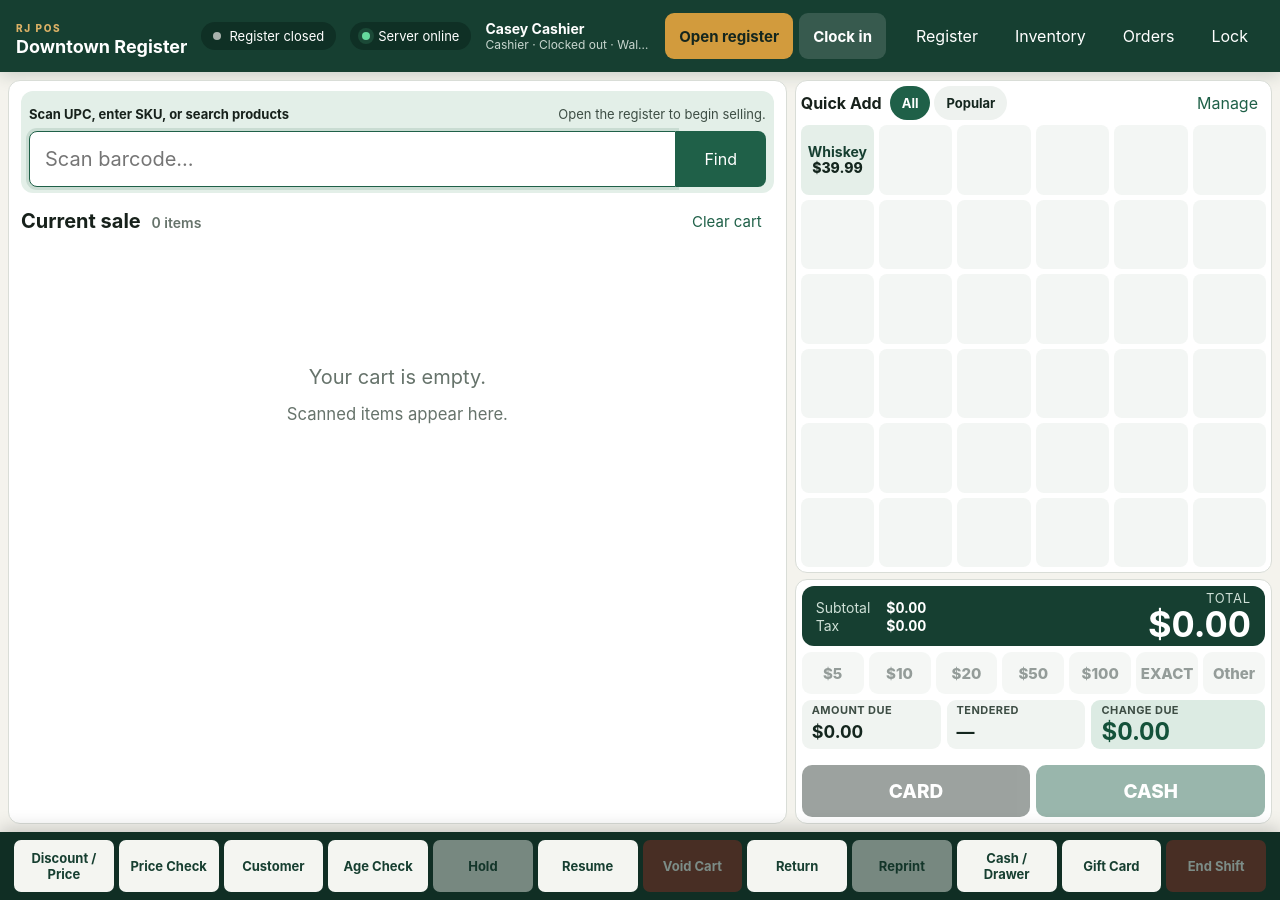
Test: Register runtime workflows › creates a customer from the register and selects it immediately
Click the button "Customer" at (273, 866), box x1=224 y1=840 x2=323 y2=892
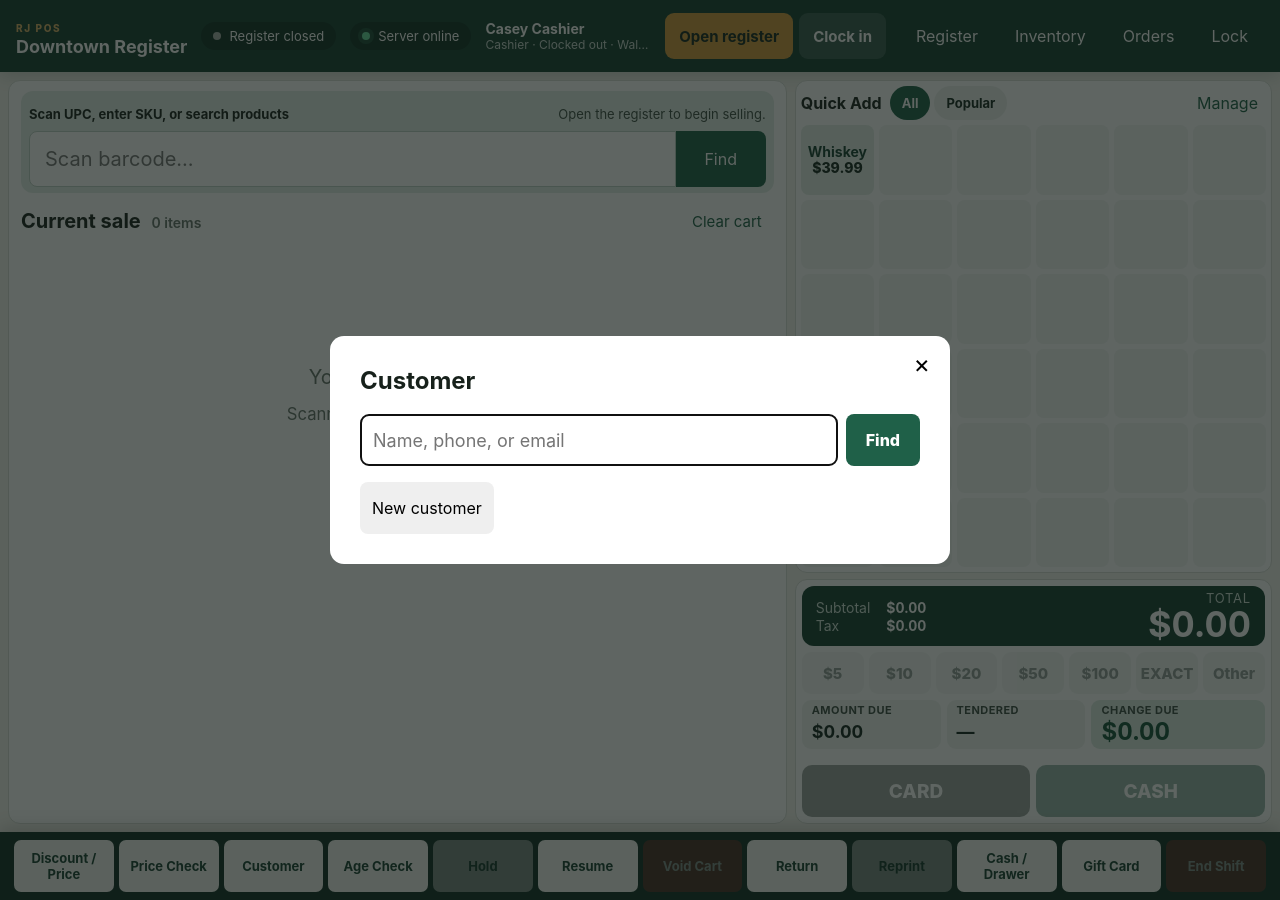
Click the button "New customer" at (427, 508), box x1=360 y1=482 x2=494 y2=534
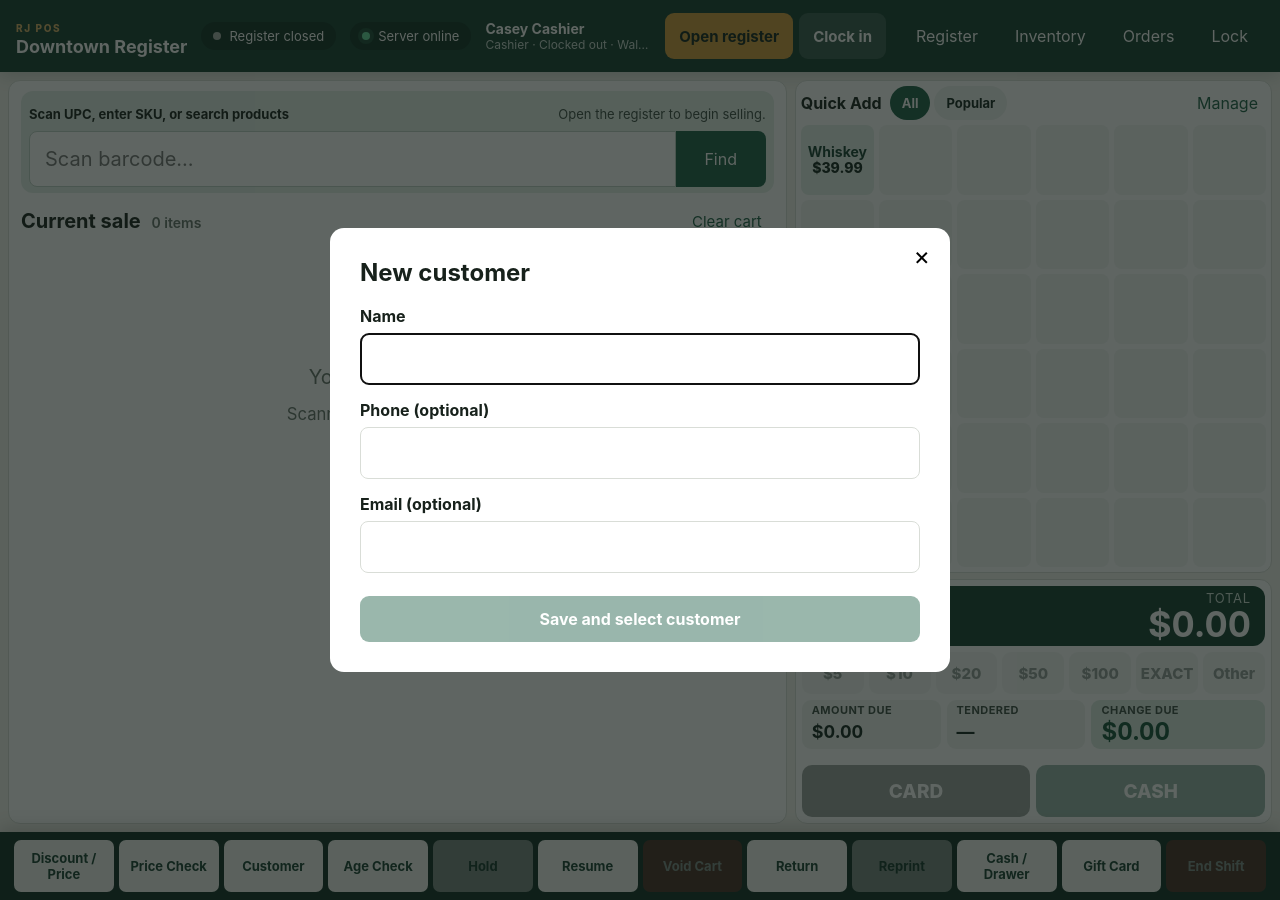
Type "Sam Rivera" into the field named "Customer name" at (640, 360), box x1=360 y1=334 x2=920 y2=386
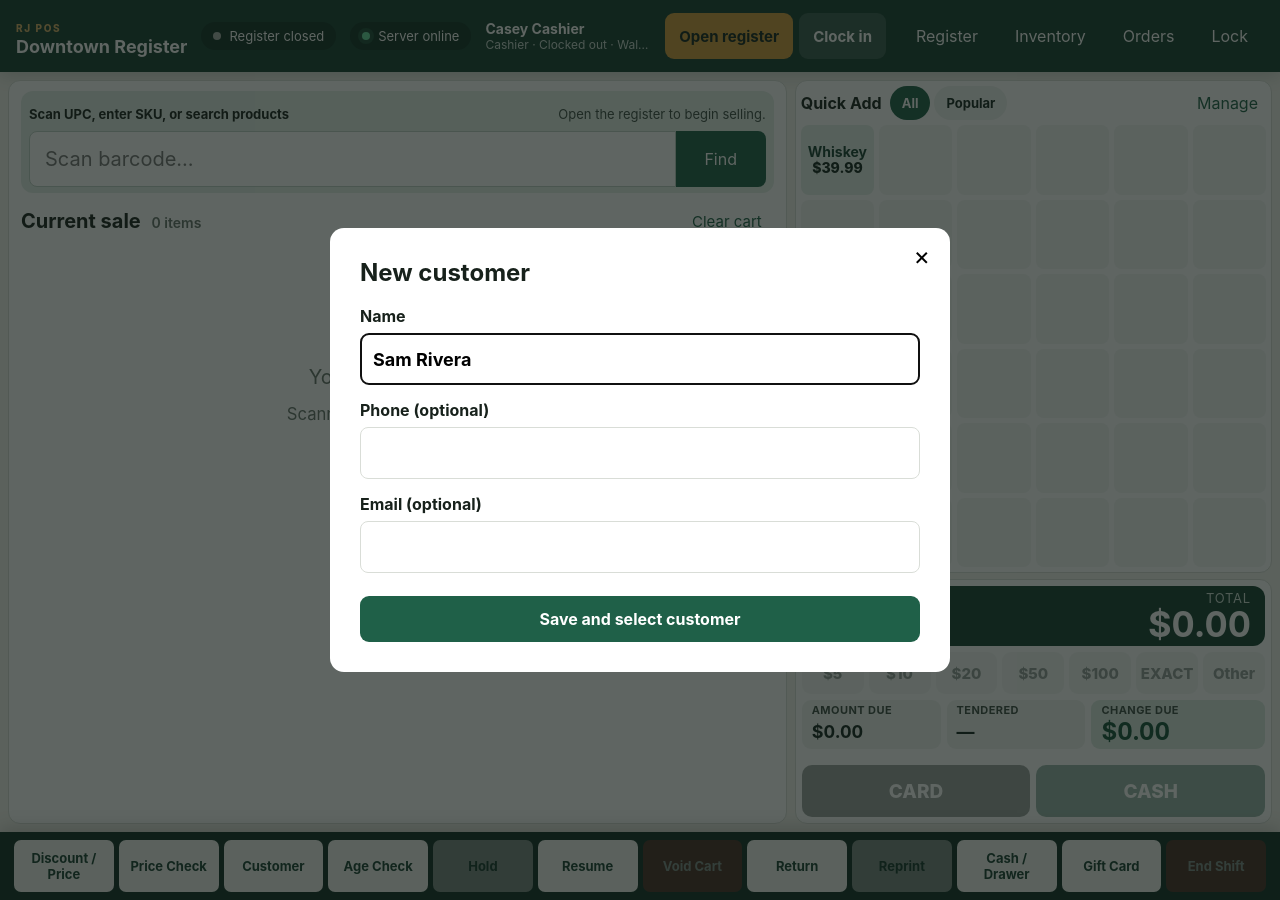
Type "5551234" into the field named "Customer phone" at (640, 454), box x1=360 y1=428 x2=920 y2=480
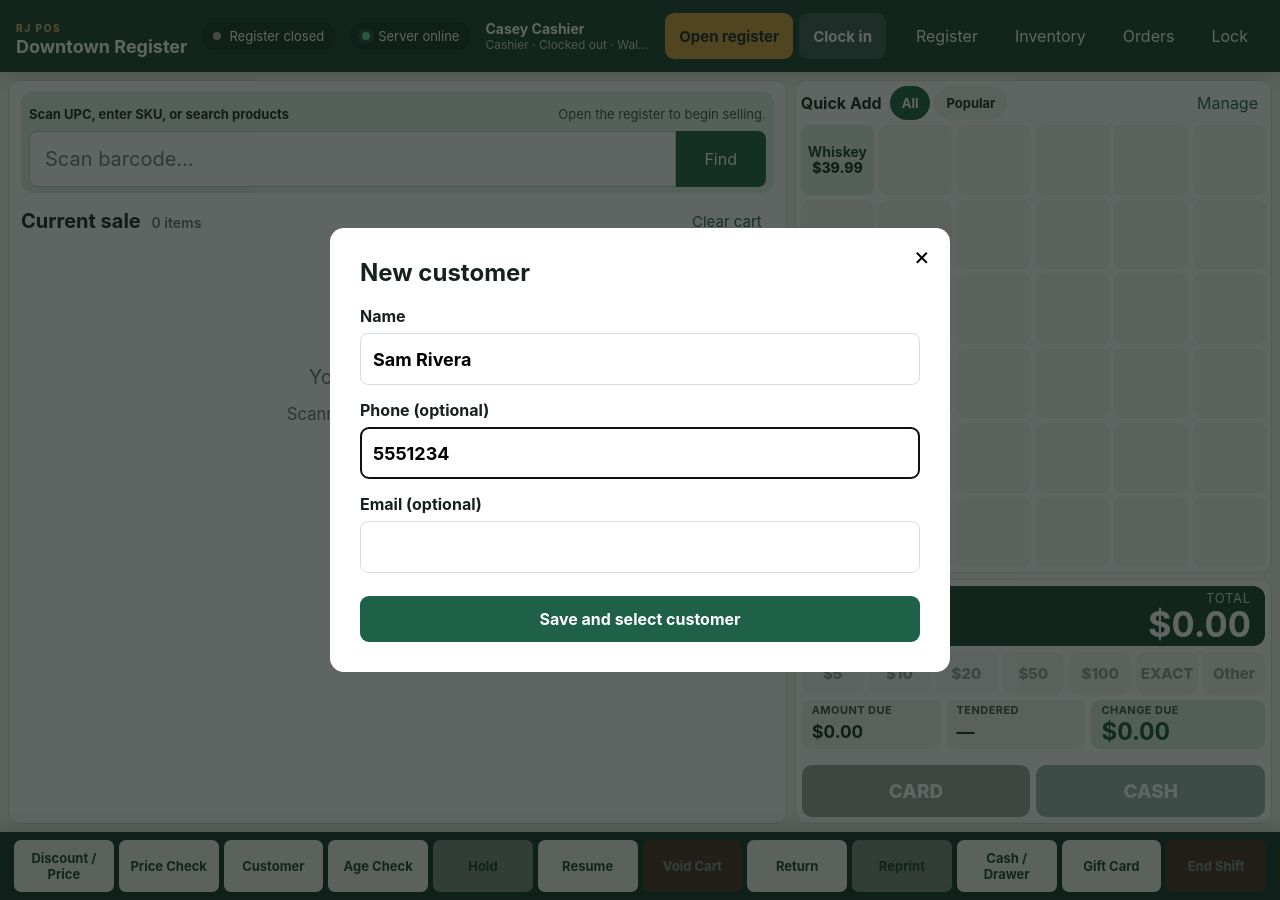
Click the button "Save and select customer" at (640, 620), box x1=360 y1=596 x2=920 y2=642
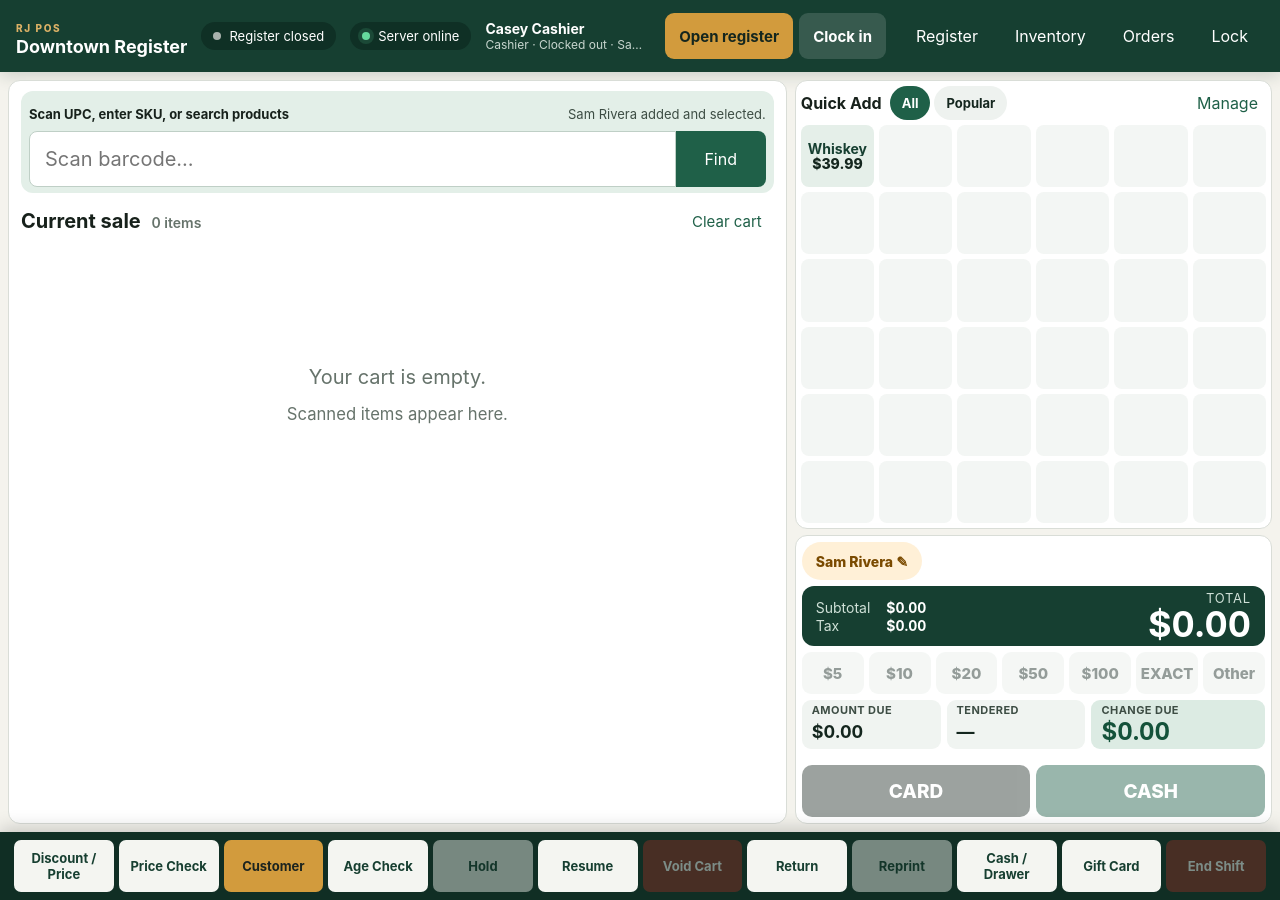
Check: the button "Sam Rivera ✎" is shown, box x1=802 y1=542 x2=922 y2=580
